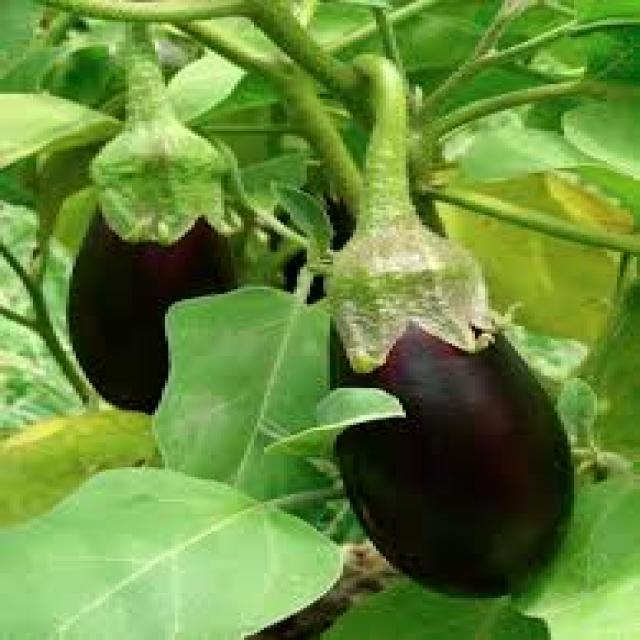Eggplant: (329, 126, 577, 601), (64, 49, 246, 414)
